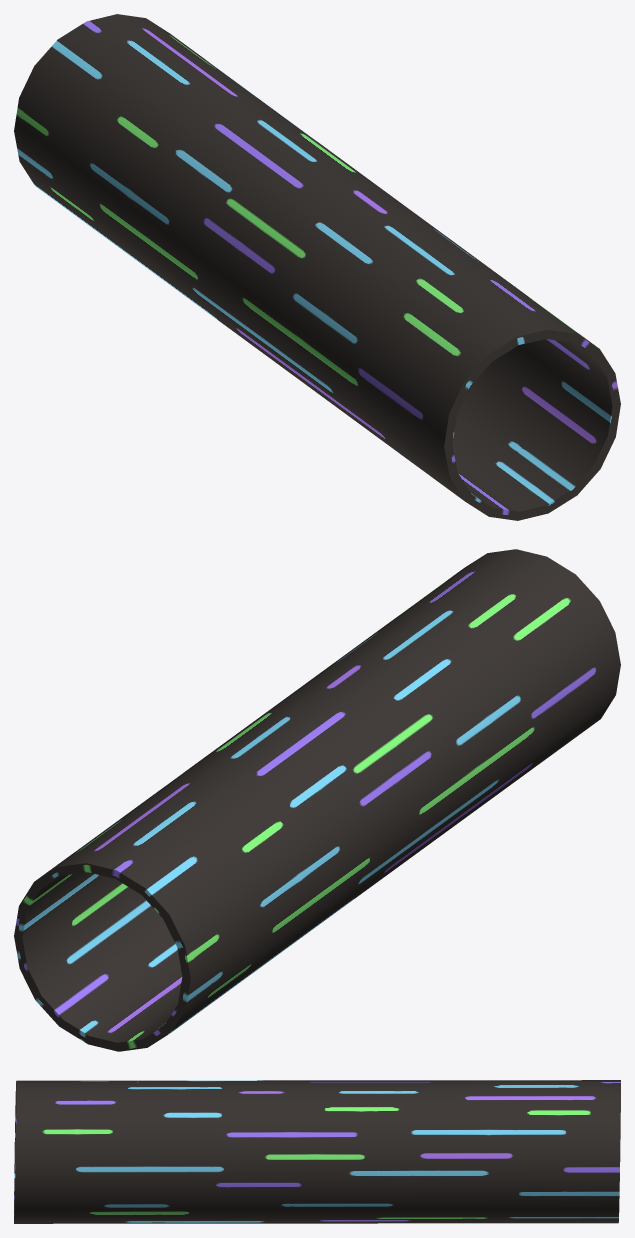
The model's file is waprback2.FBX.
The picture shows the model from 3 angles, top to bottom: view 1: azimuth 30°, elevation 25°; view 2: azimuth 150°, elevation 25°; view 3: azimuth 270°, elevation 25°; orthographic projection. The views are drawn at different scales.
Visible parts, largest first — view 1: Tube001; view 2: Tube001; view 3: Tube001.
Part boxes in pixels (box(x1,y1,x2,y2)): Tube001: box(14, 14, 620, 520); Tube001: box(14, 549, 620, 1051); Tube001: box(14, 1080, 620, 1223).
Bounding box in the file's own units: 1893 × 1875 × 8003.
Materials: 1 (1 with a texture image).
